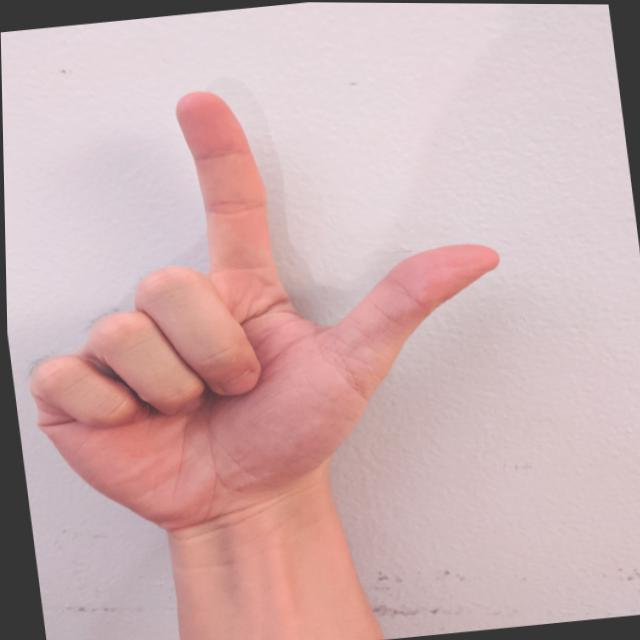L: (1, 52, 539, 555)
